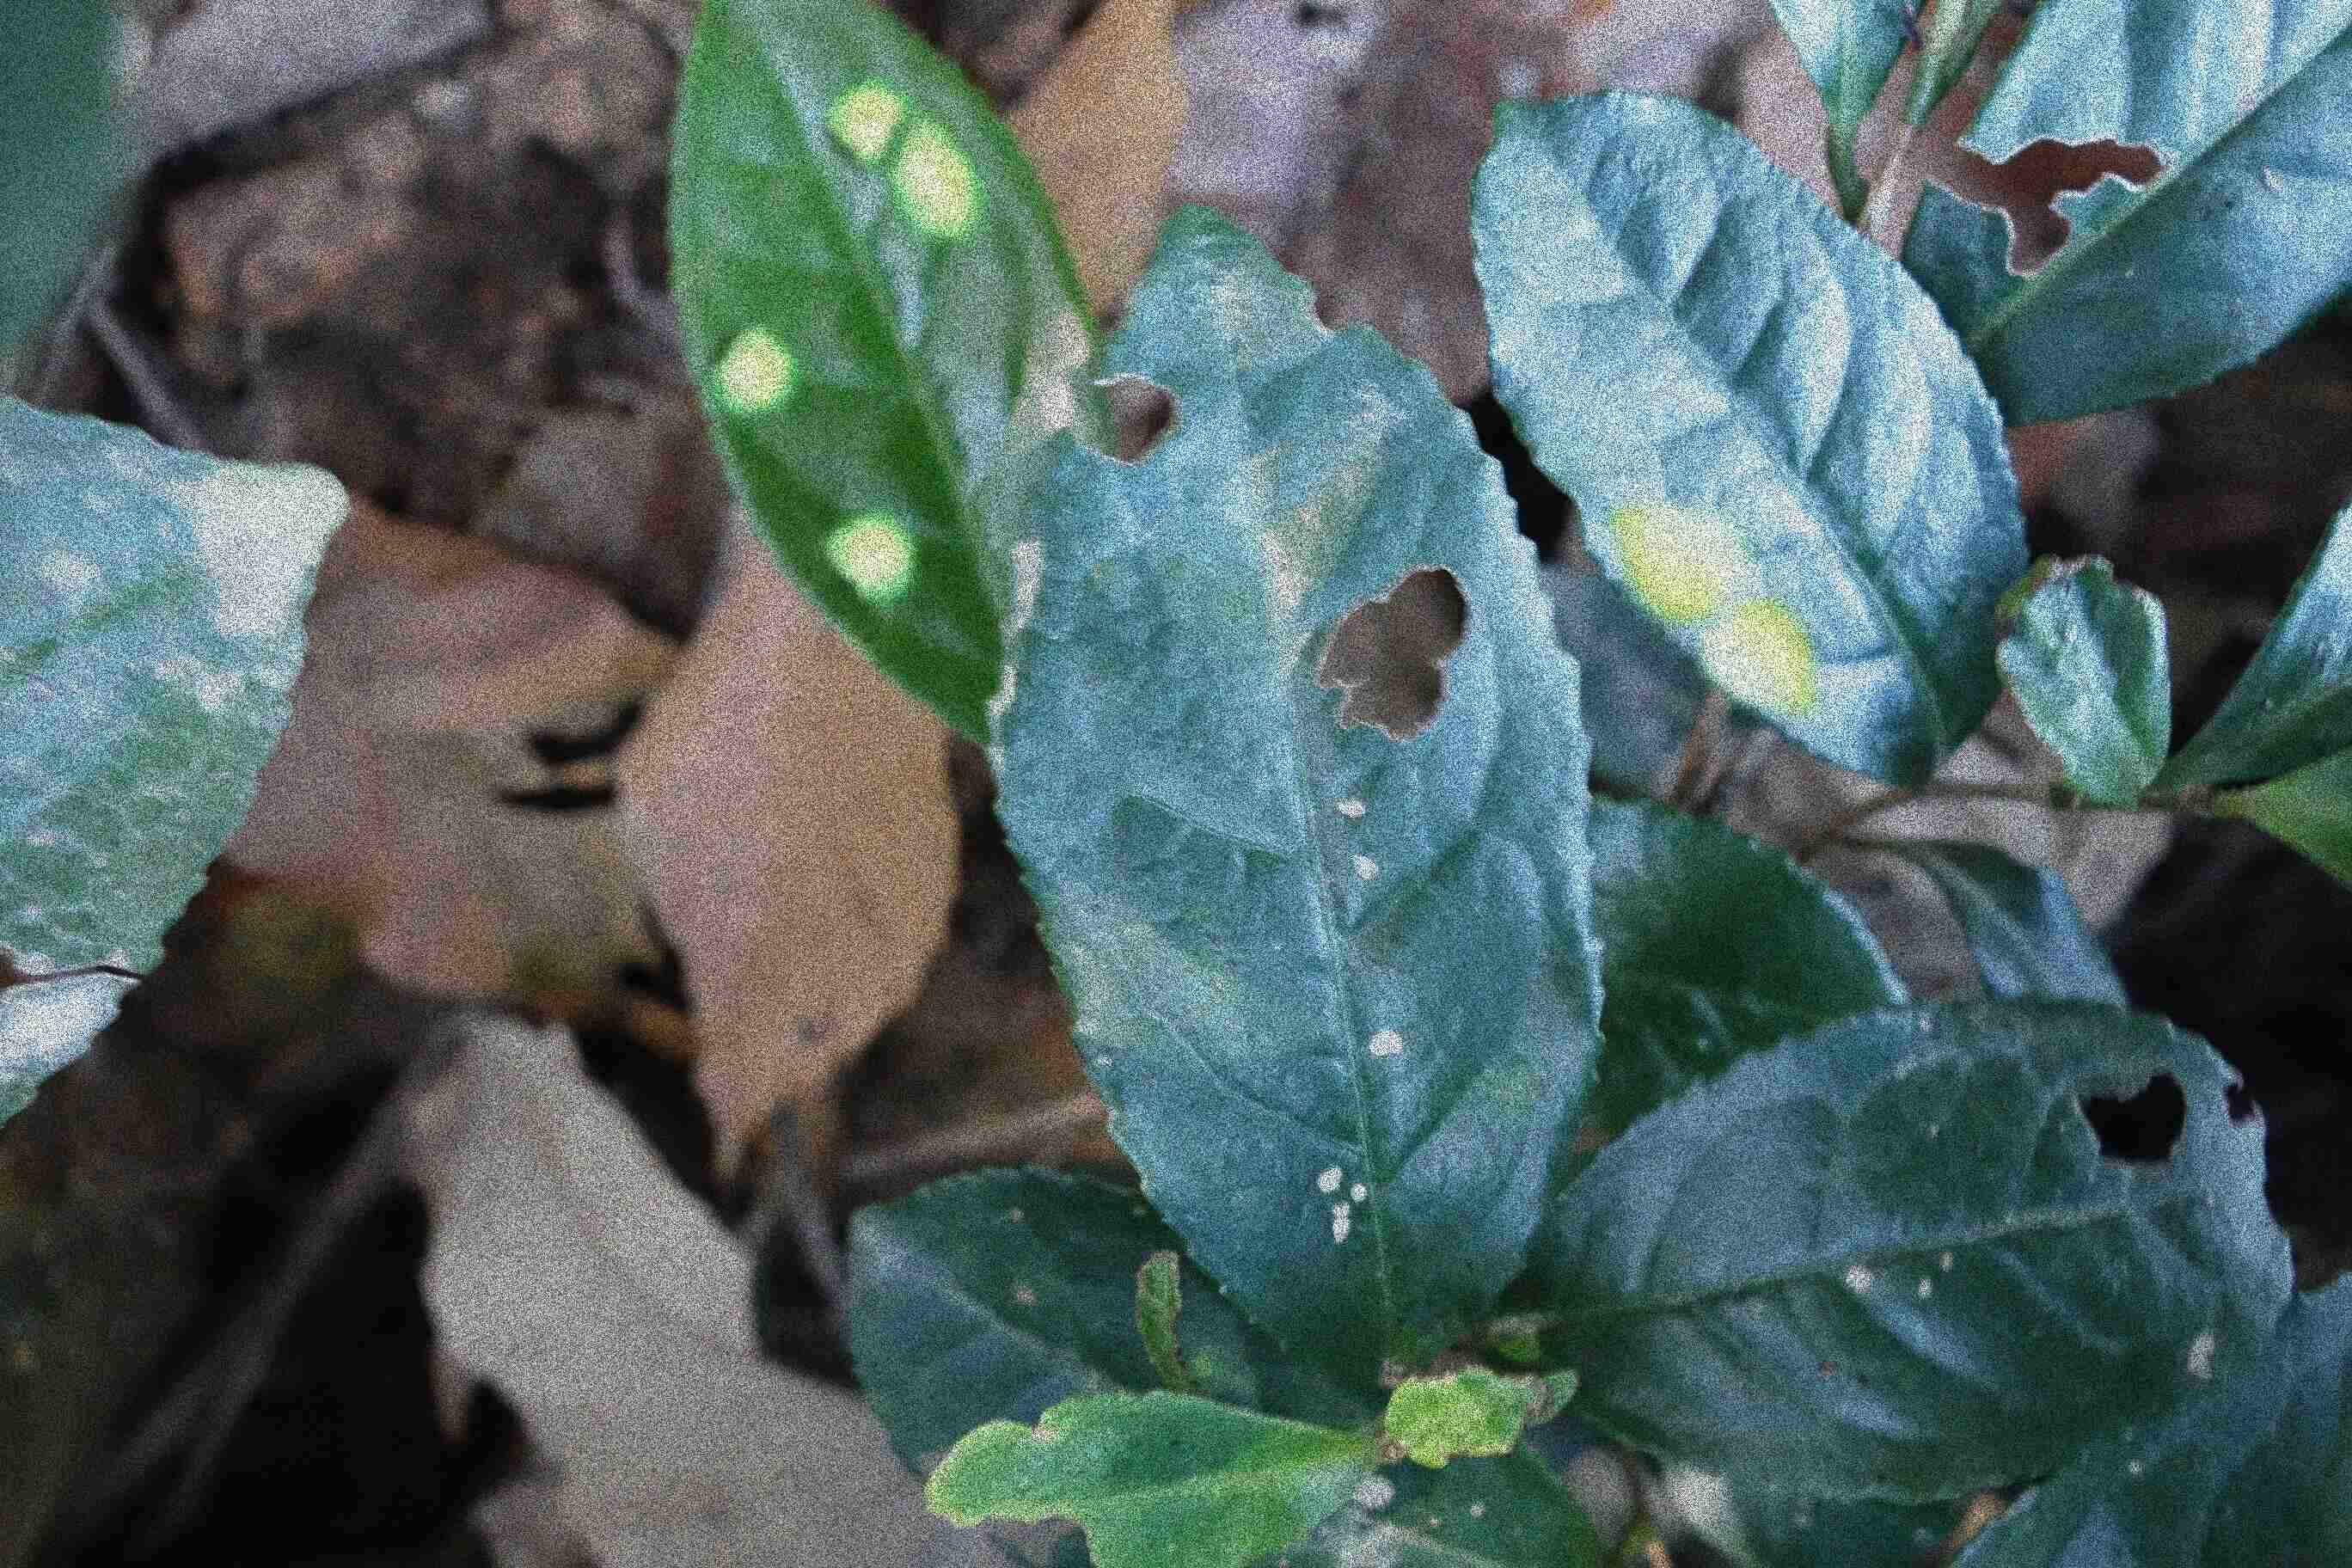chabing_high: (1470, 86, 2033, 789), (663, 0, 1113, 752)
chihuo_high: (987, 206, 1608, 1386), (1521, 996, 2298, 1510)
chihuo_low: (1913, 5, 2348, 436)
